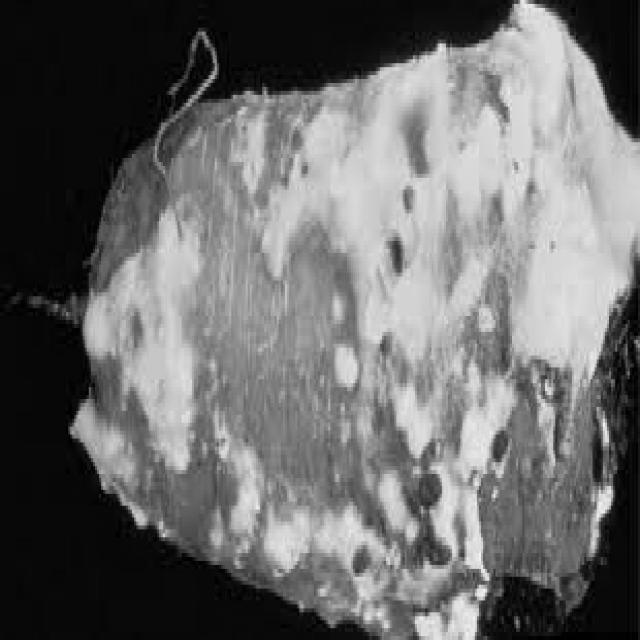Stale_Carrot: (71, 11, 640, 640)
